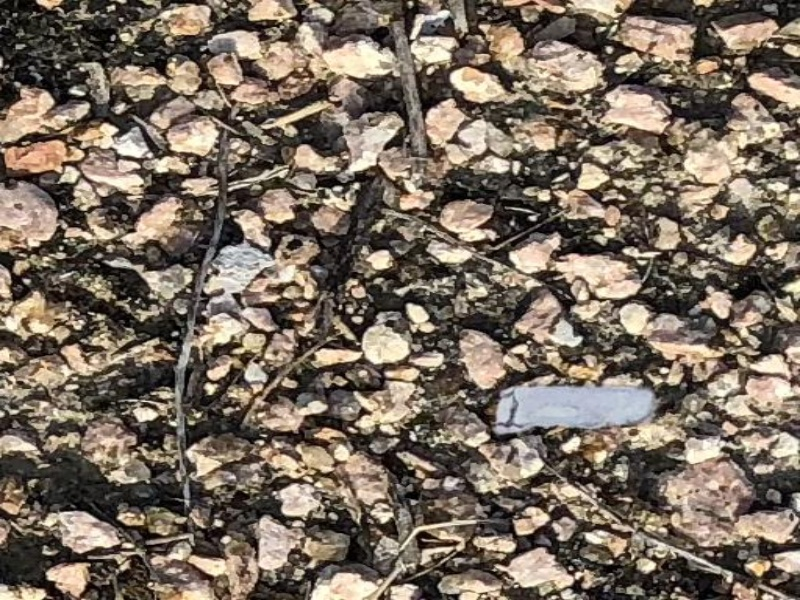cig: (500, 375, 655, 429)
